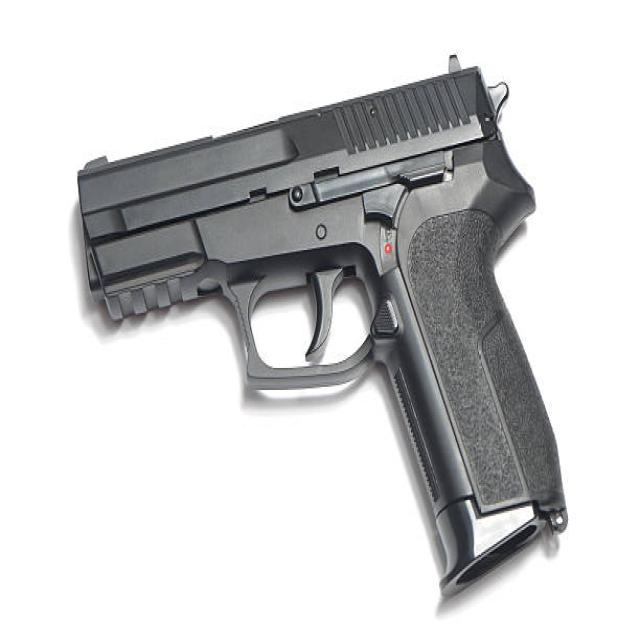pistol: (76, 51, 584, 618)
